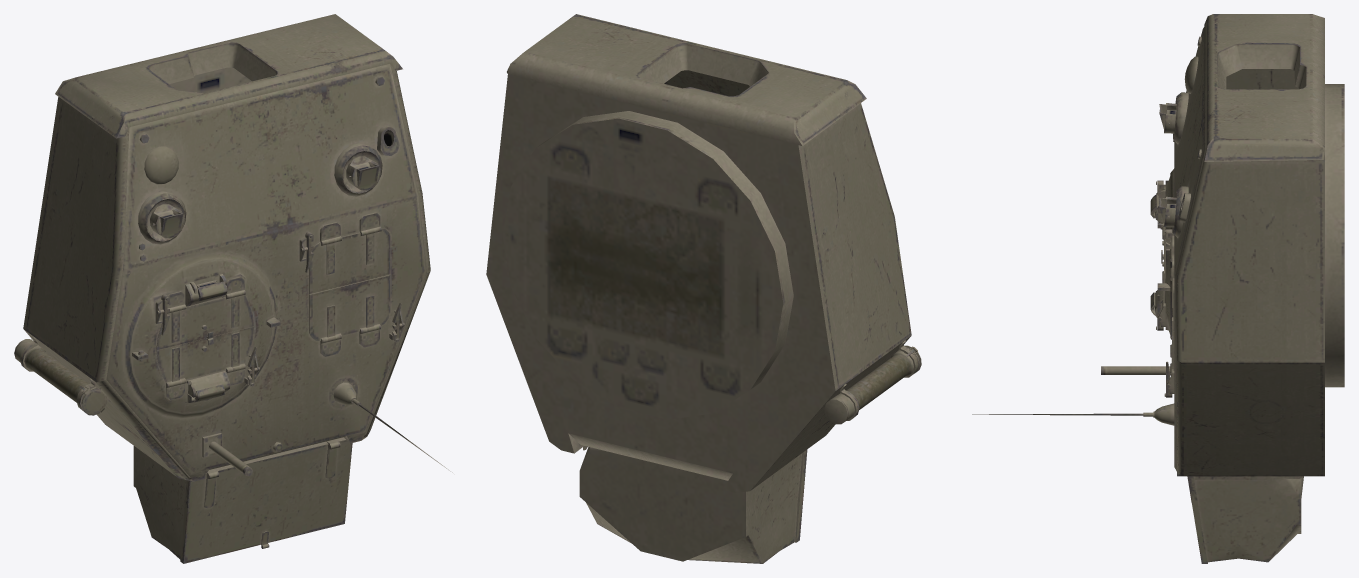
File: Turret_02.glb
3 views of the same model, side by side, from view 1: azimuth 30°, elevation 25°; view 2: azimuth 150°, elevation 25°; view 3: azimuth 270°, elevation 25° (orthographic). The views are drawn at different scales.
Visible parts, largest first — view 1: set_0_group_0; view 2: set_0_group_0; view 3: set_0_group_0.
Part boxes in pixels (box(x1,y1,x2,y2)): set_0_group_0: box(14, 14, 452, 563); set_0_group_0: box(486, 14, 921, 563); set_0_group_0: box(972, 14, 1344, 563).
Size of the model in its own units: 1.92 by 2.44 by 1.93.
Materials: 1 (1 with a texture image).
